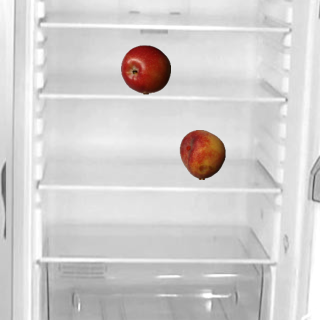Apple Braeburn: (120, 44, 170, 94)
Peach: (177, 129, 227, 179)
